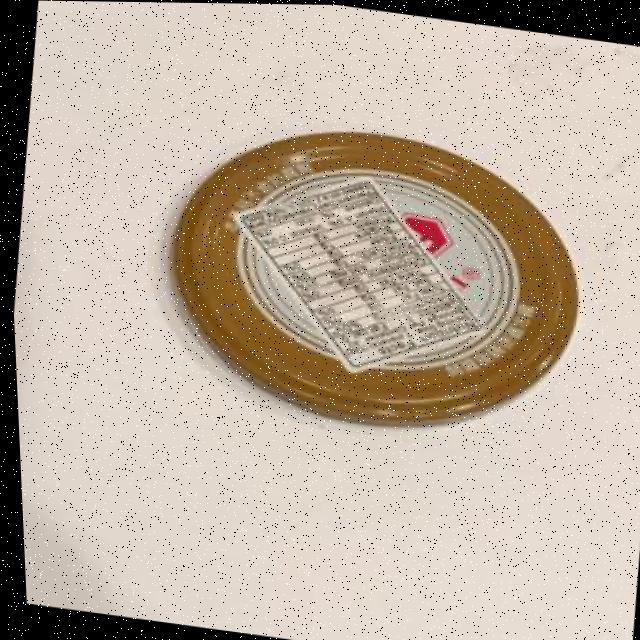metal: (131, 98, 608, 459)
